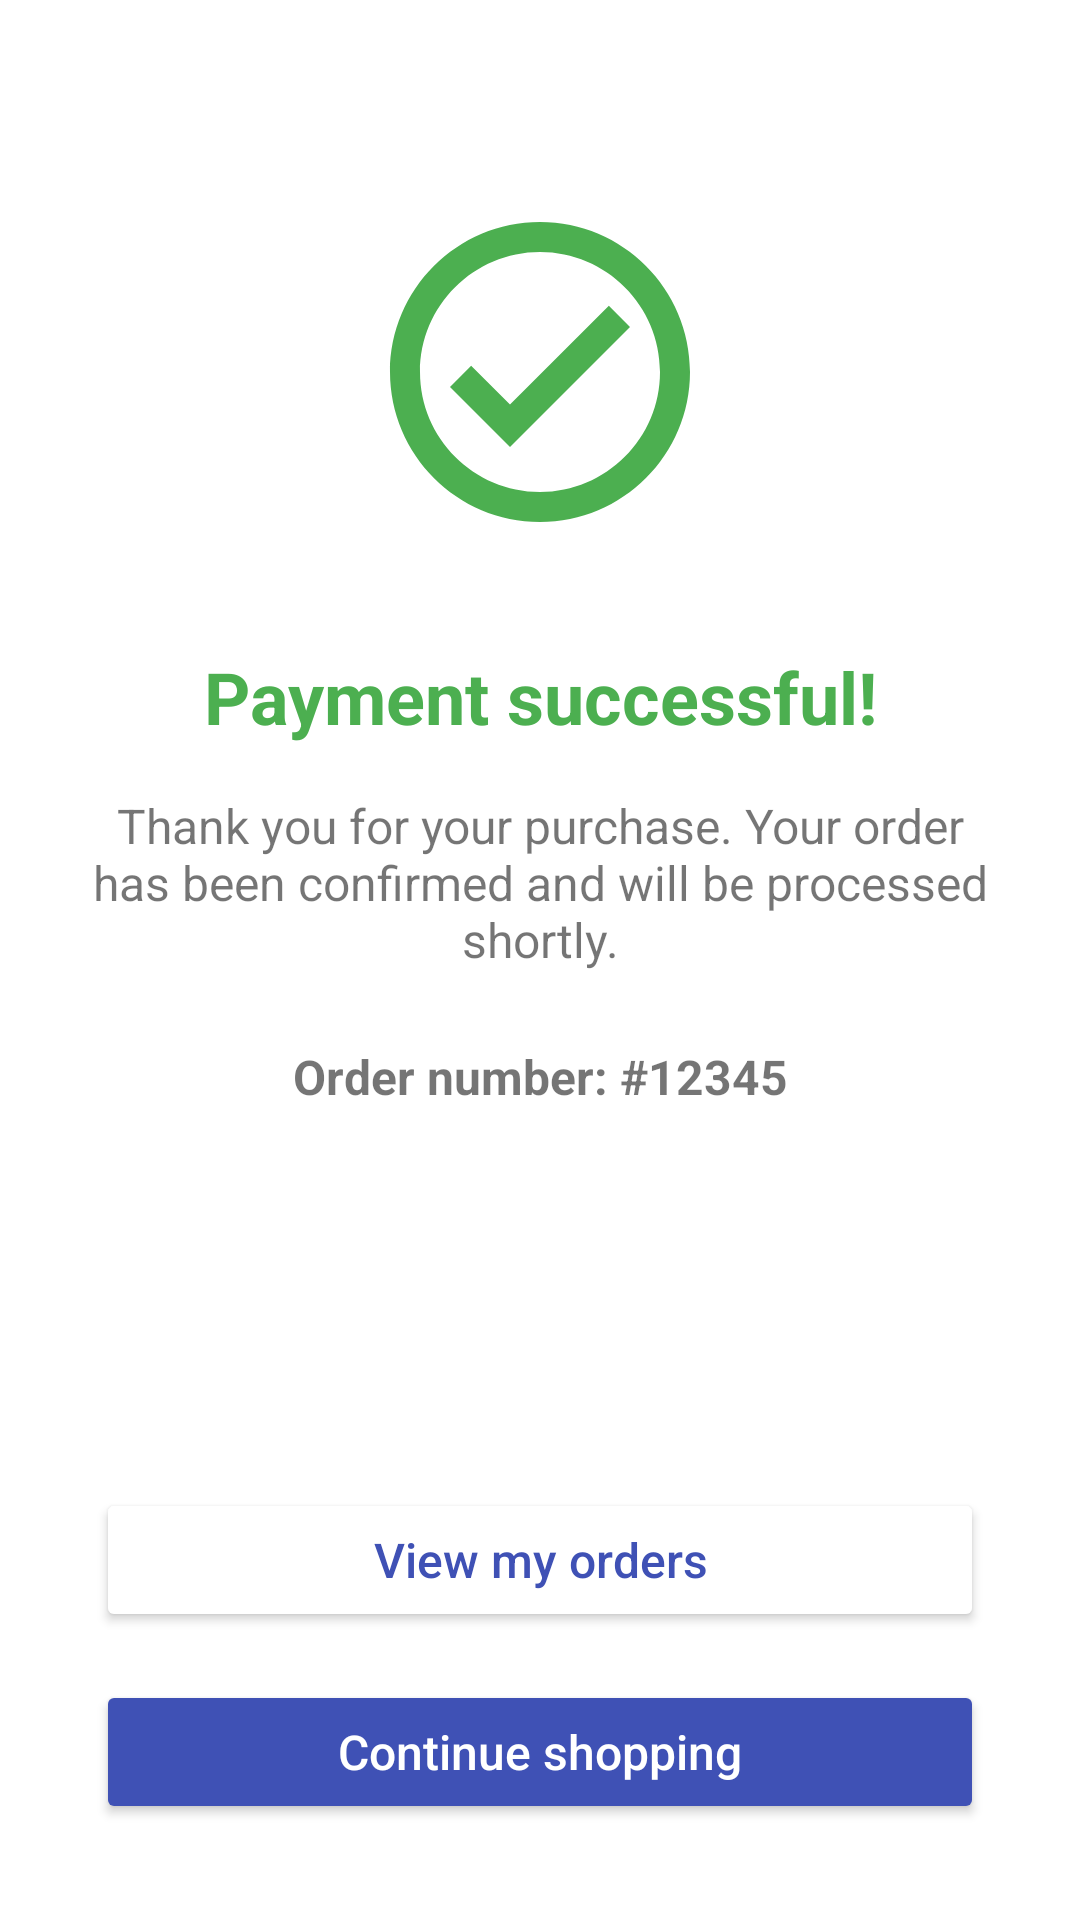

Icons on this 1080 × 1920 Android screen, each with its box as (x1, y1, x2, y2):
Success icon: (390, 222, 690, 522)
